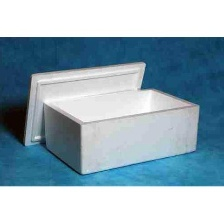foam_box: (17, 56, 206, 177)
